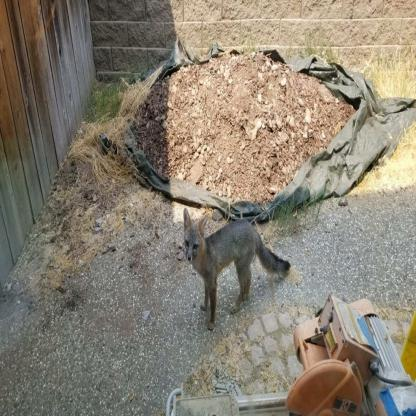zorro: (178, 200, 294, 336)
